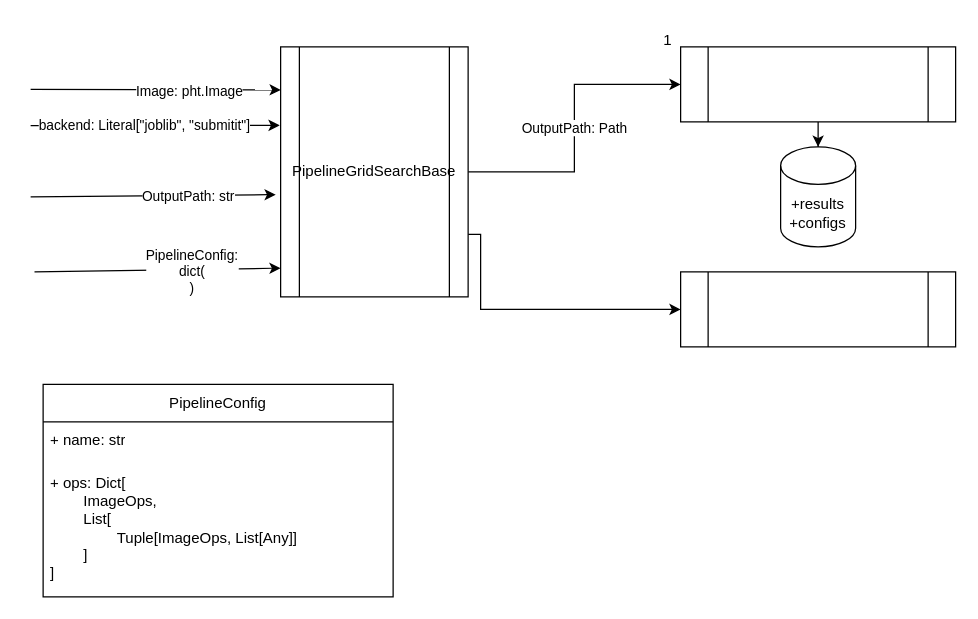
Some shapes in this 978 by 619 pixel diagram are drawn without their labels. Each missing label, with the box of its shape:
_make_output_directory: (679, 46, 956, 122)
_unpack_: (679, 271, 956, 347)
